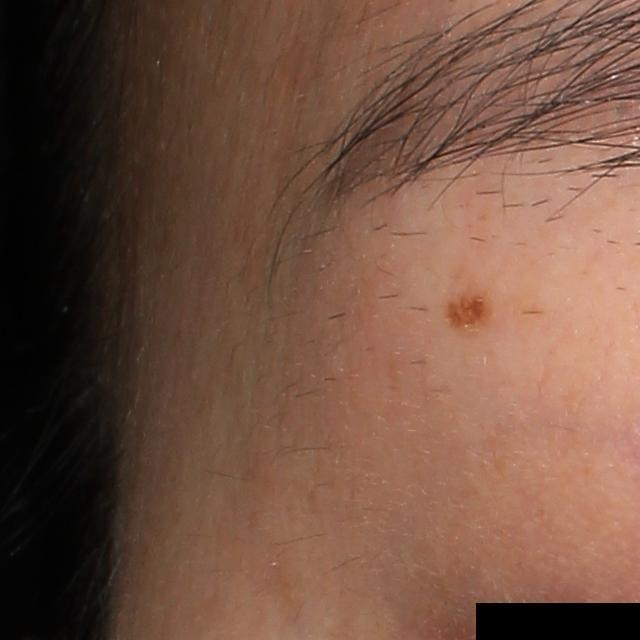nevus: (441, 280, 500, 332)
